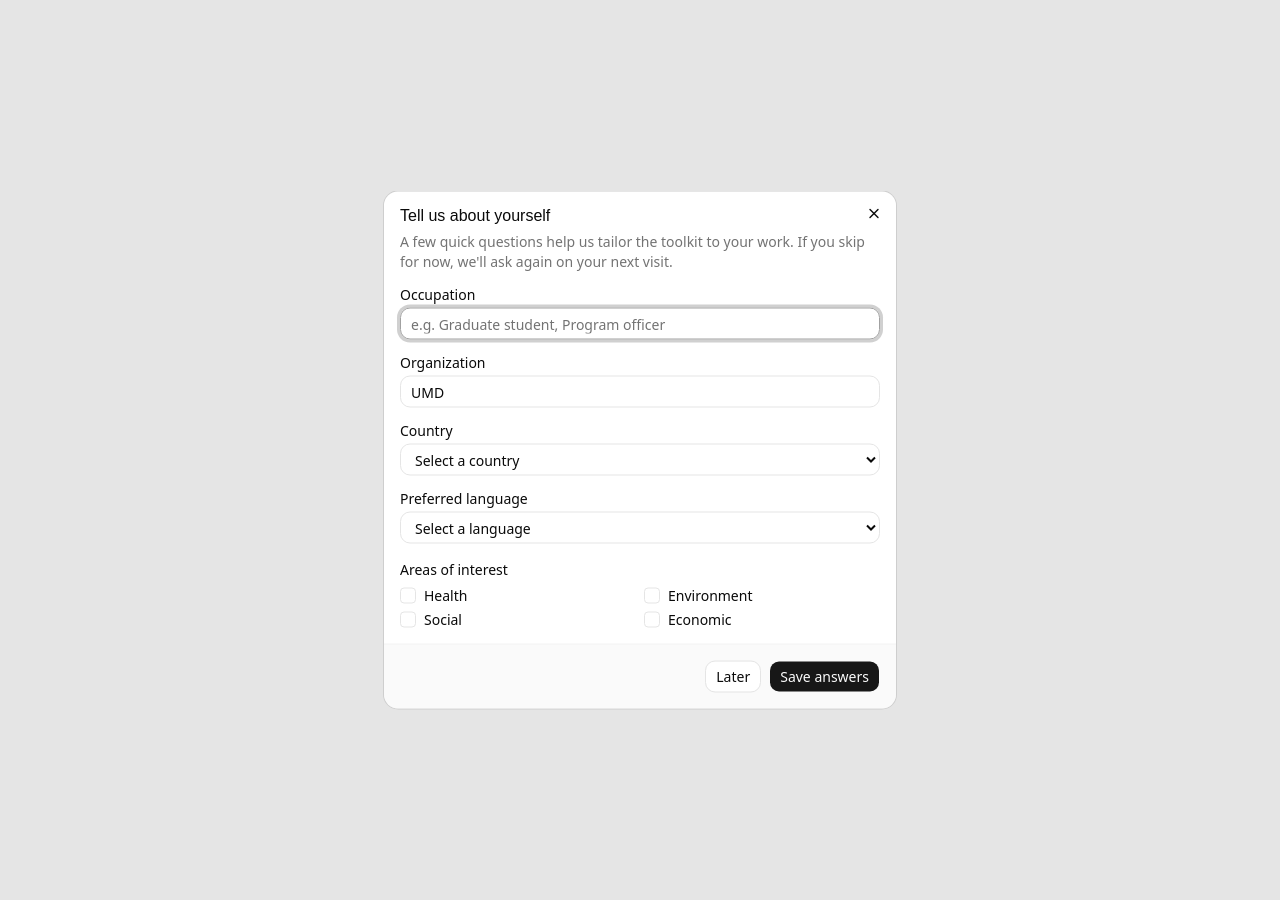
Scenario: OnboardingDialog › requires every answer before saving
This screenshot has width=1280, height=900.
Click the button "Save answers" at [825, 676], box [769, 660, 880, 692]
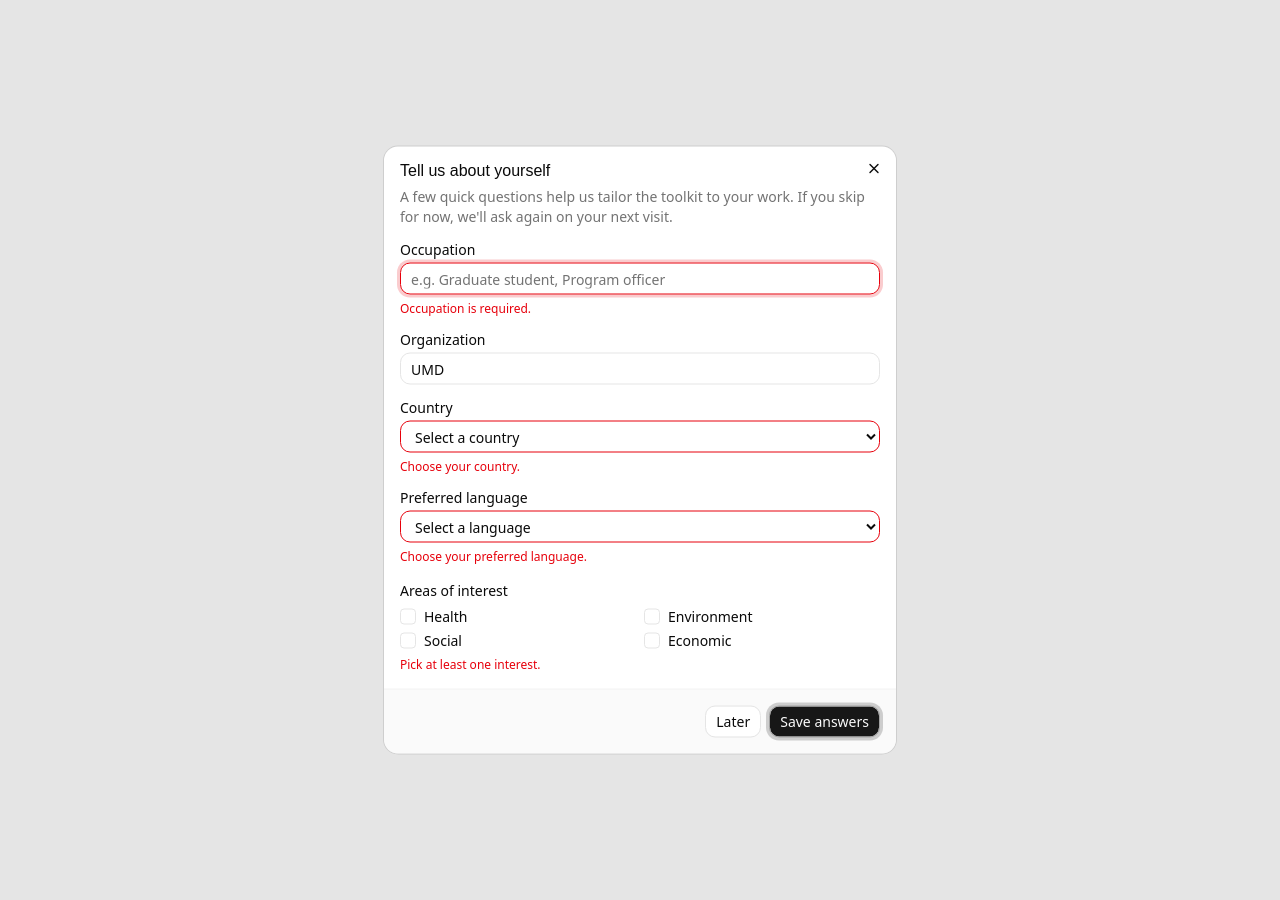
Check: the text "Occupation is required." is shown, box [400, 300, 531, 316]
Check: the text "Choose your country." is shown, box [400, 458, 520, 474]
Check: the text "Choose your preferred language." is shown, box [400, 548, 587, 564]
